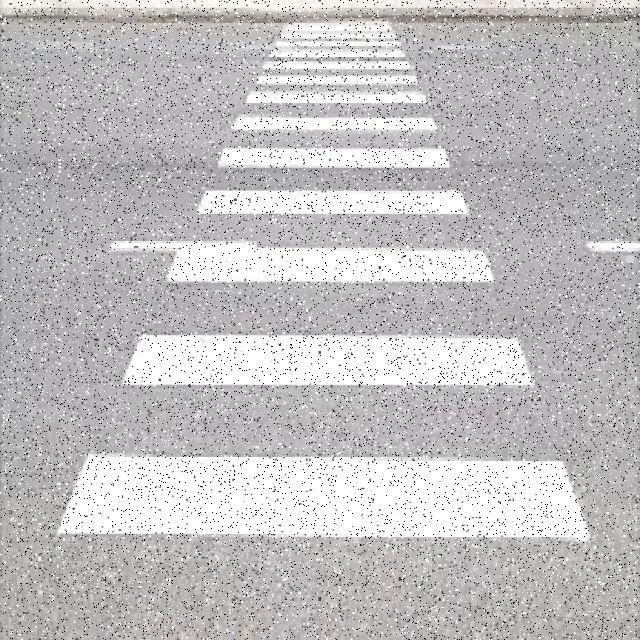Pedestrian crosswalk: (60, 0, 600, 572)
